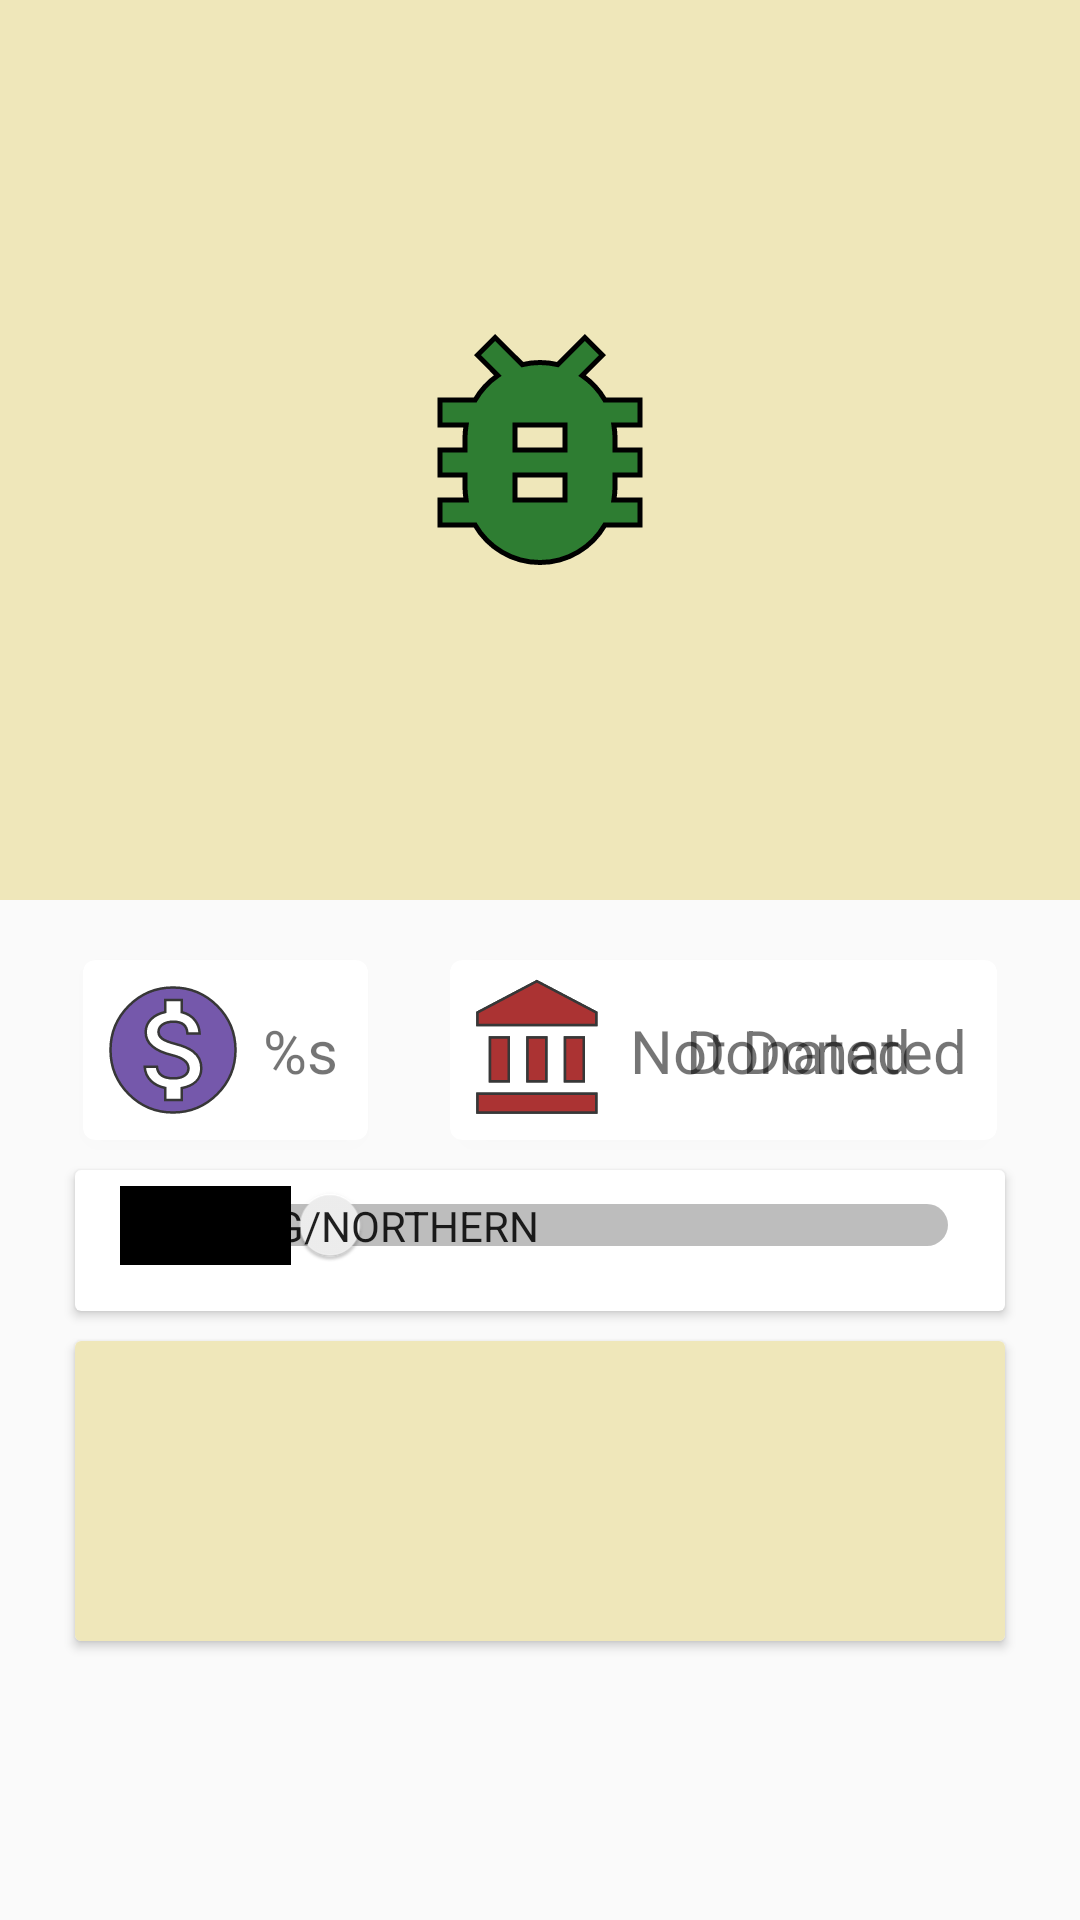

Screen size 1080px x 1920px. Icon name, then its center in pixels as (x,y):
insect: (540,449)
value: (173,1050)
